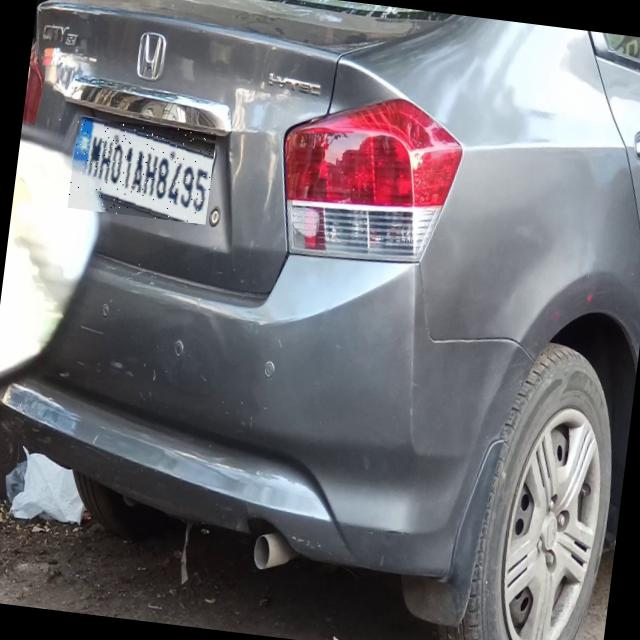Plate: (68, 117, 217, 225)
